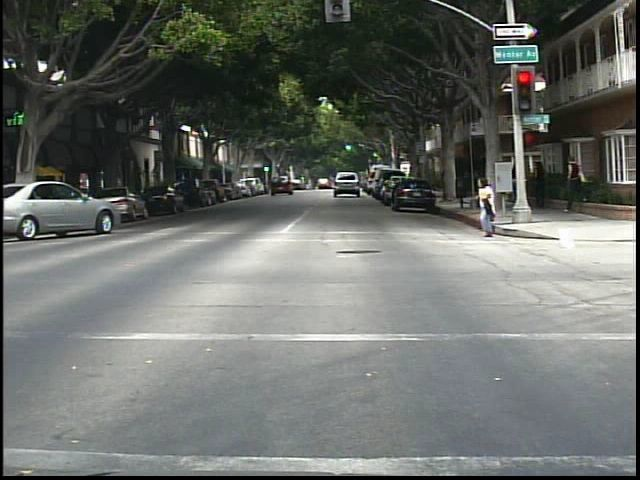person: (470, 175, 505, 243), (561, 152, 590, 213), (533, 155, 556, 213)
